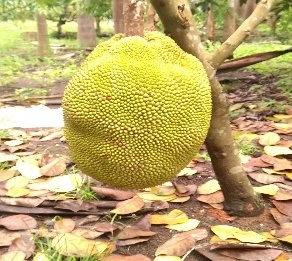Mit: (63, 36, 212, 194)
